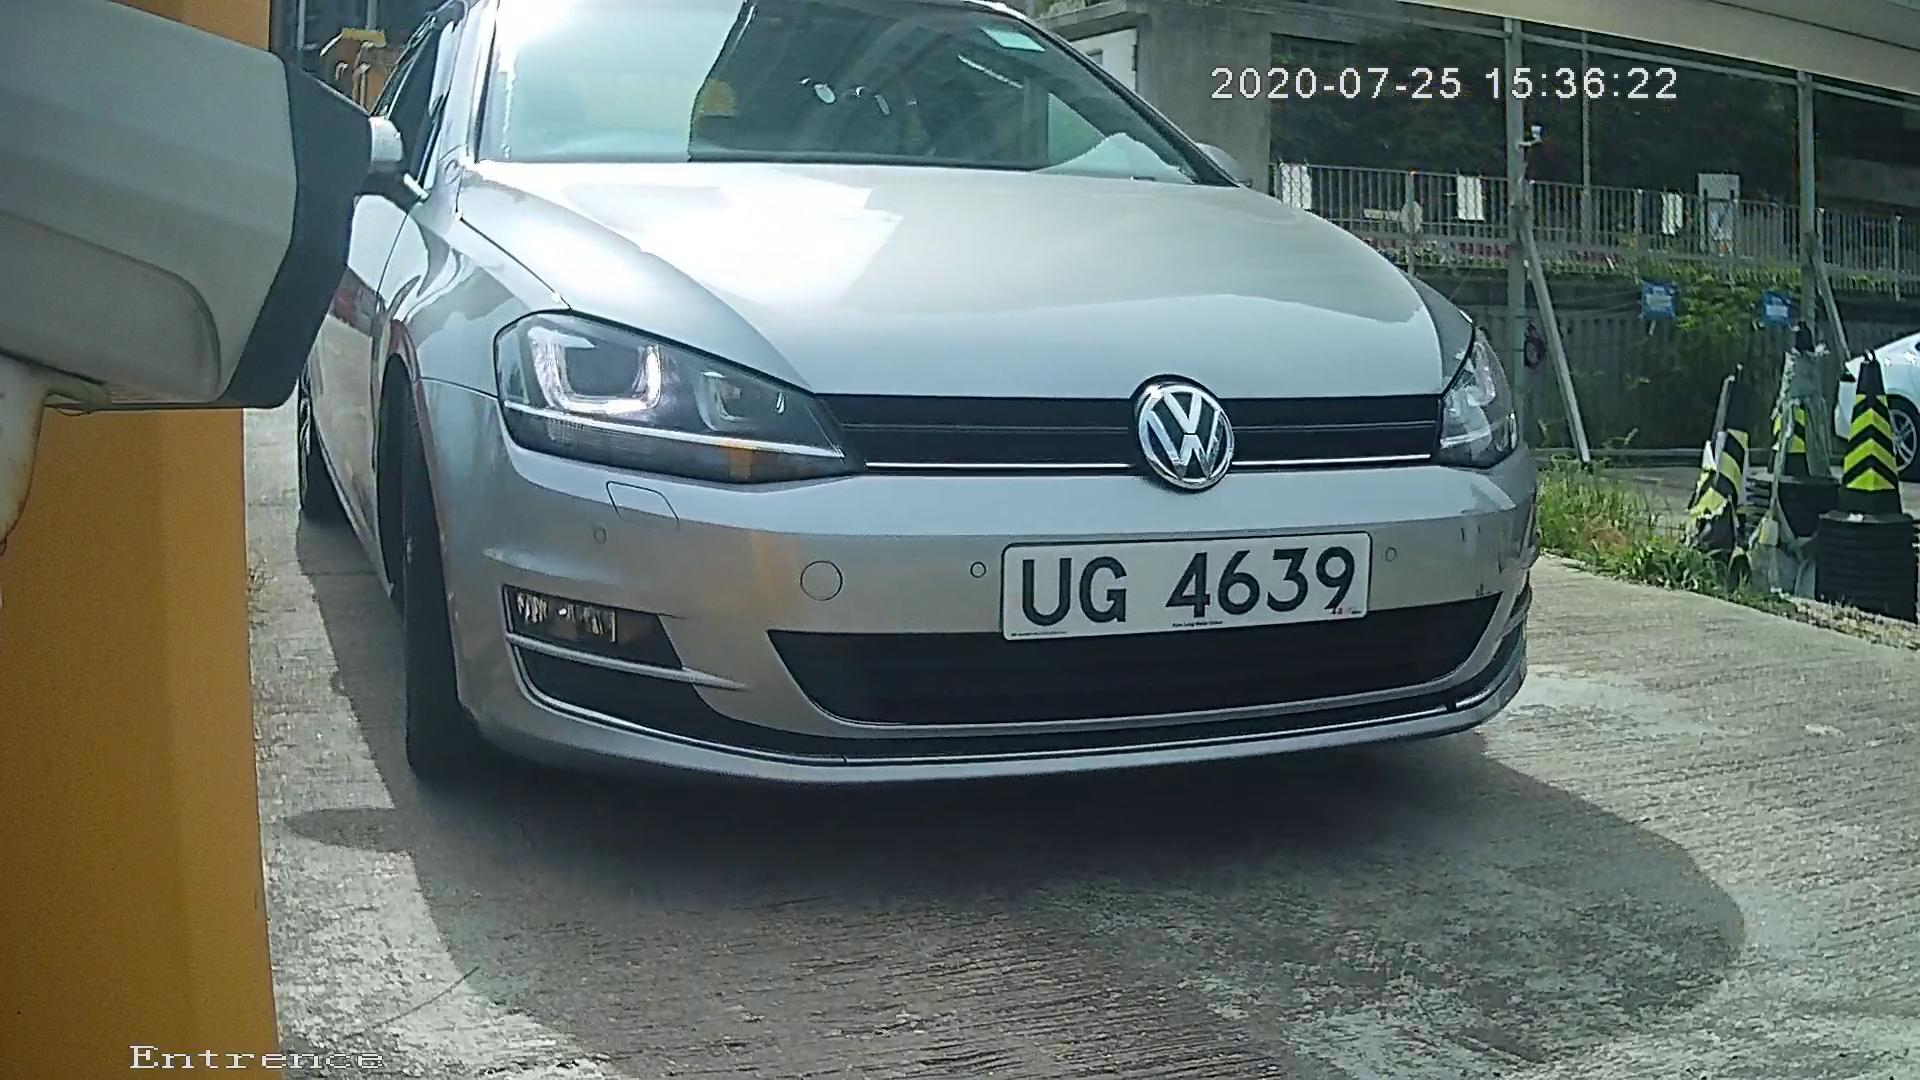License Plate: (978, 516, 1389, 647)
